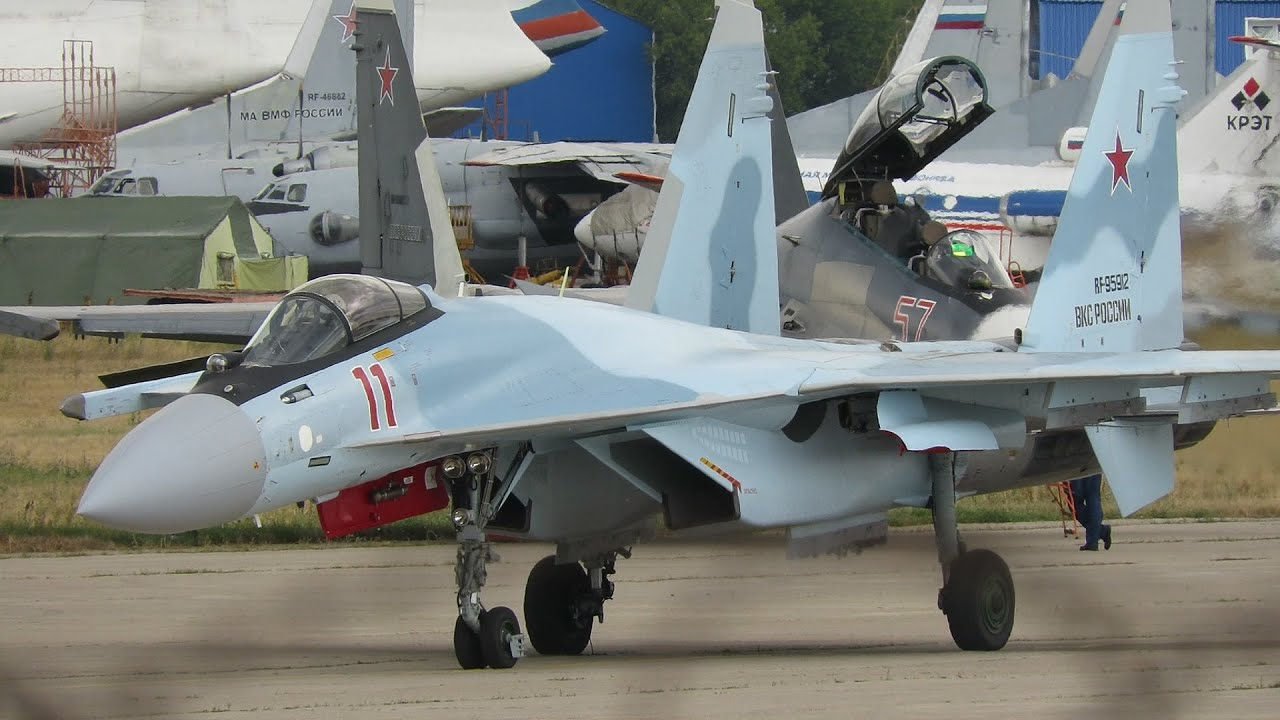Su35: (70, 2, 1280, 672)
